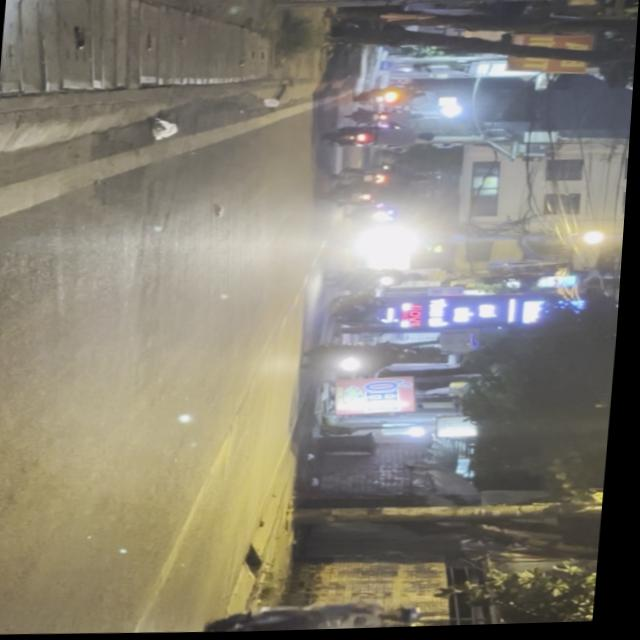helmet: (390, 605, 431, 628), (389, 622, 429, 630)
licenseplate: (205, 599, 434, 634)
